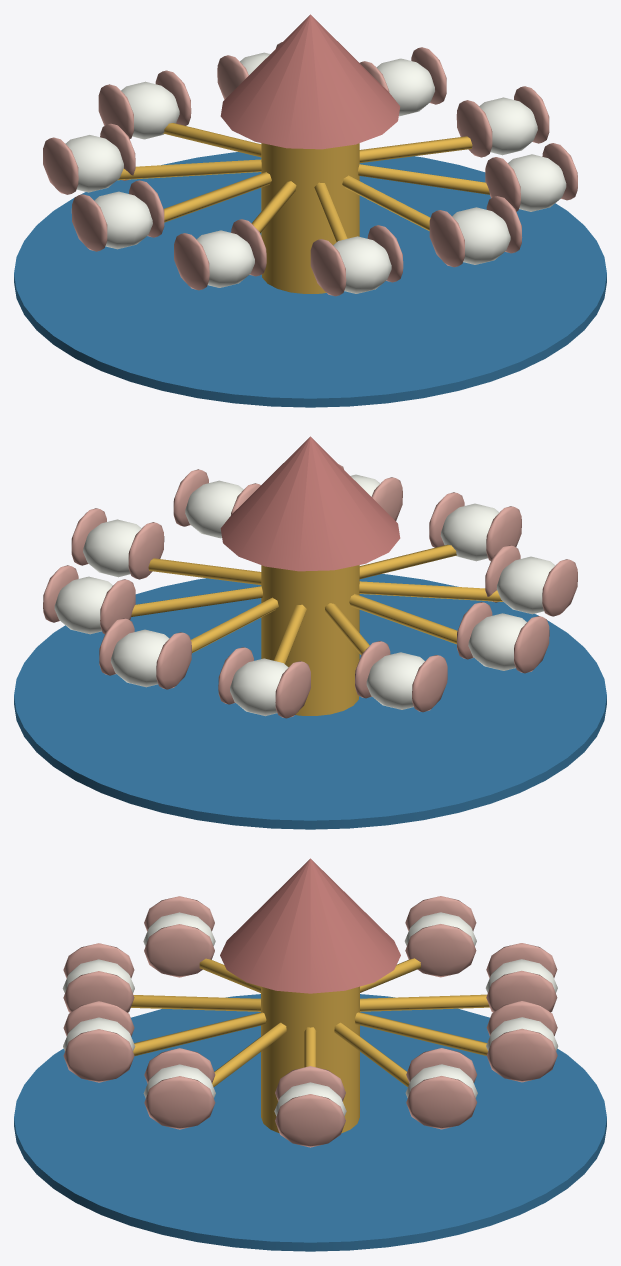
The model's file is dumbo.glb.
3 views of the same model, one above another, from view 1: azimuth 30°, elevation 25°; view 2: azimuth 150°, elevation 25°; view 3: azimuth 270°, elevation 25° (orthographic).
Bounding box in the file's own units: 3.6 × 1.79 × 3.6.
